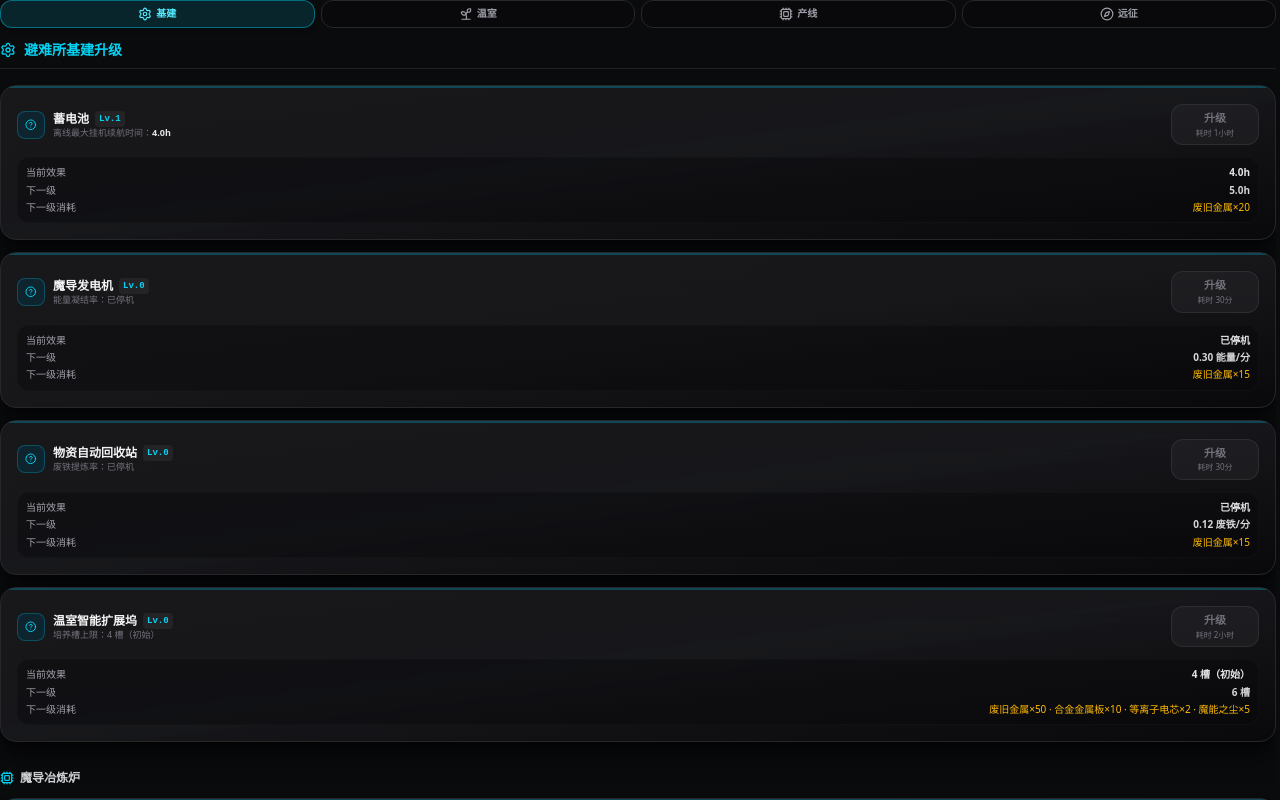
Scenario: 生产/取消弹窗（issue 08 变体 B） › 待机态点「生产」打开生产弹窗：配方下拉 + 滑条上限（材料上限）+ 开始按钮
Click the button "产线" at coordinates (798, 14), box [641,0,956,28]
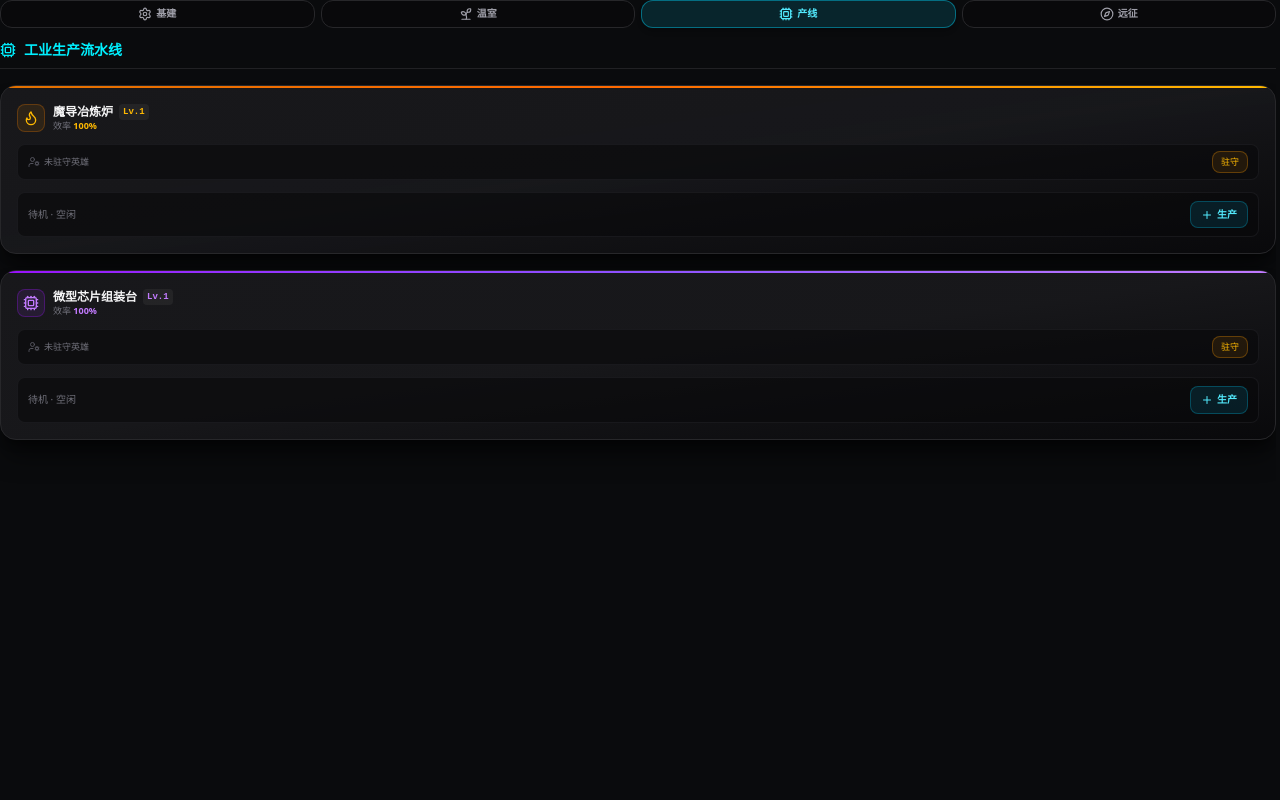
Click the button with test id "start-task-btn-smelter-0" at coordinates (1219, 215), box [1190,201,1248,228]
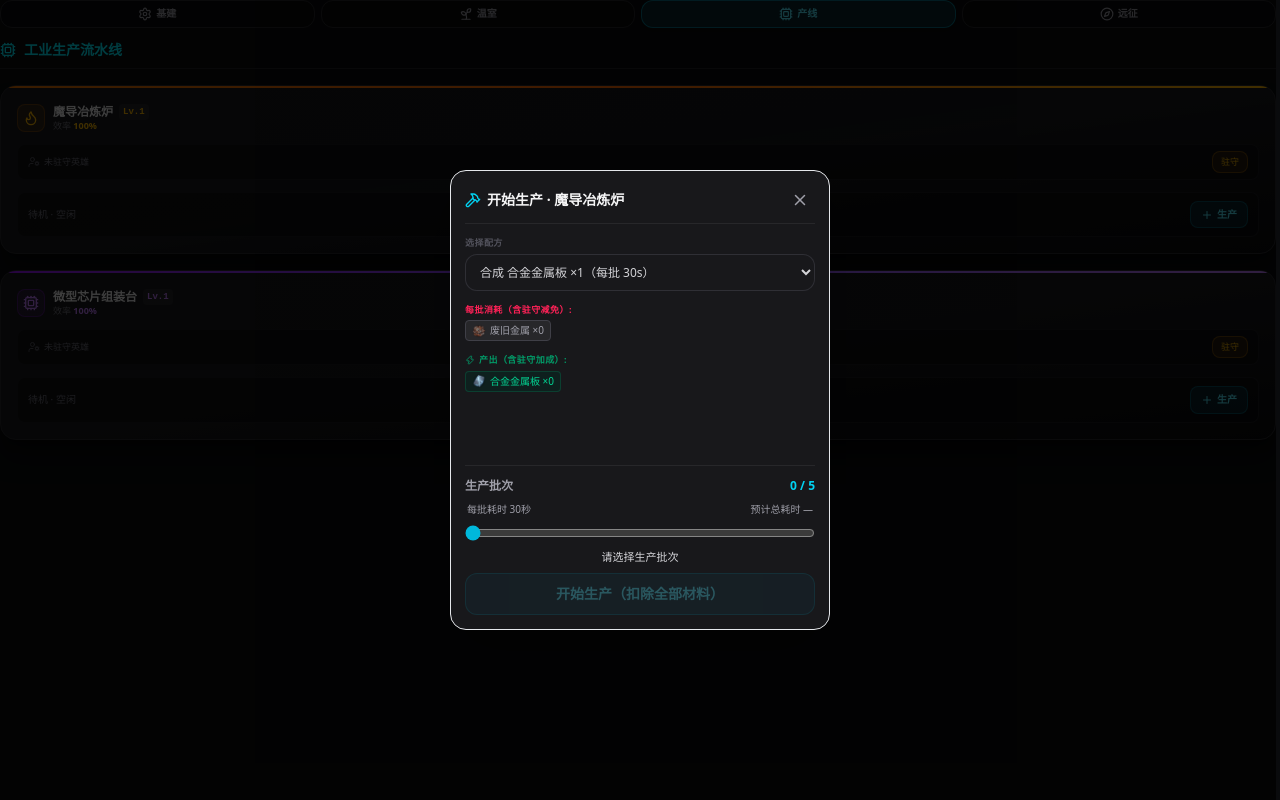
Result: the element with test id "start-task-container" is shown at [450,170,830,630]
Result: the dropdown is shown at [465,254,815,290]
Result: the text "每批耗时 30秒" is shown at [467,502,531,516]
